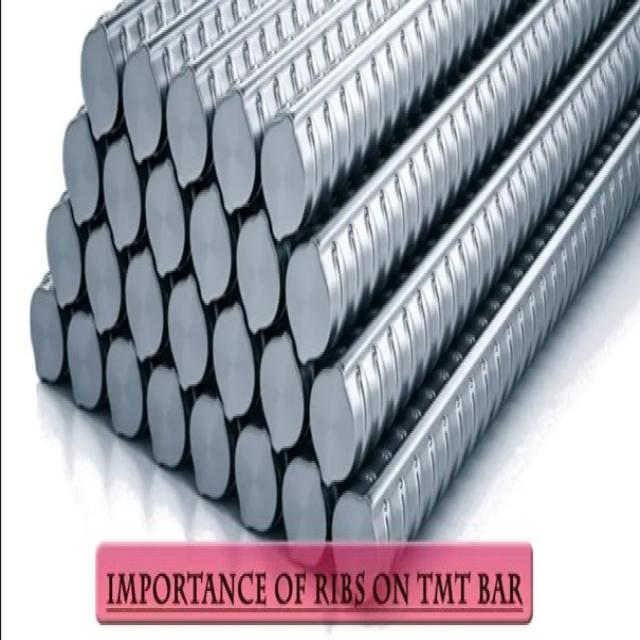Rebar: (258, 108, 310, 230), (334, 484, 388, 598), (312, 351, 358, 483), (287, 238, 333, 368), (280, 455, 327, 575), (261, 322, 305, 448), (236, 209, 281, 332), (212, 92, 258, 212), (123, 43, 168, 163), (168, 62, 210, 187), (191, 183, 233, 305), (124, 247, 169, 360), (80, 20, 121, 143), (102, 133, 146, 245), (214, 304, 254, 420), (149, 155, 187, 275), (190, 388, 230, 502), (28, 282, 66, 397), (46, 202, 86, 309), (171, 276, 211, 382), (64, 110, 104, 212), (147, 361, 184, 471), (85, 227, 123, 327), (109, 328, 144, 436), (71, 310, 104, 415)
